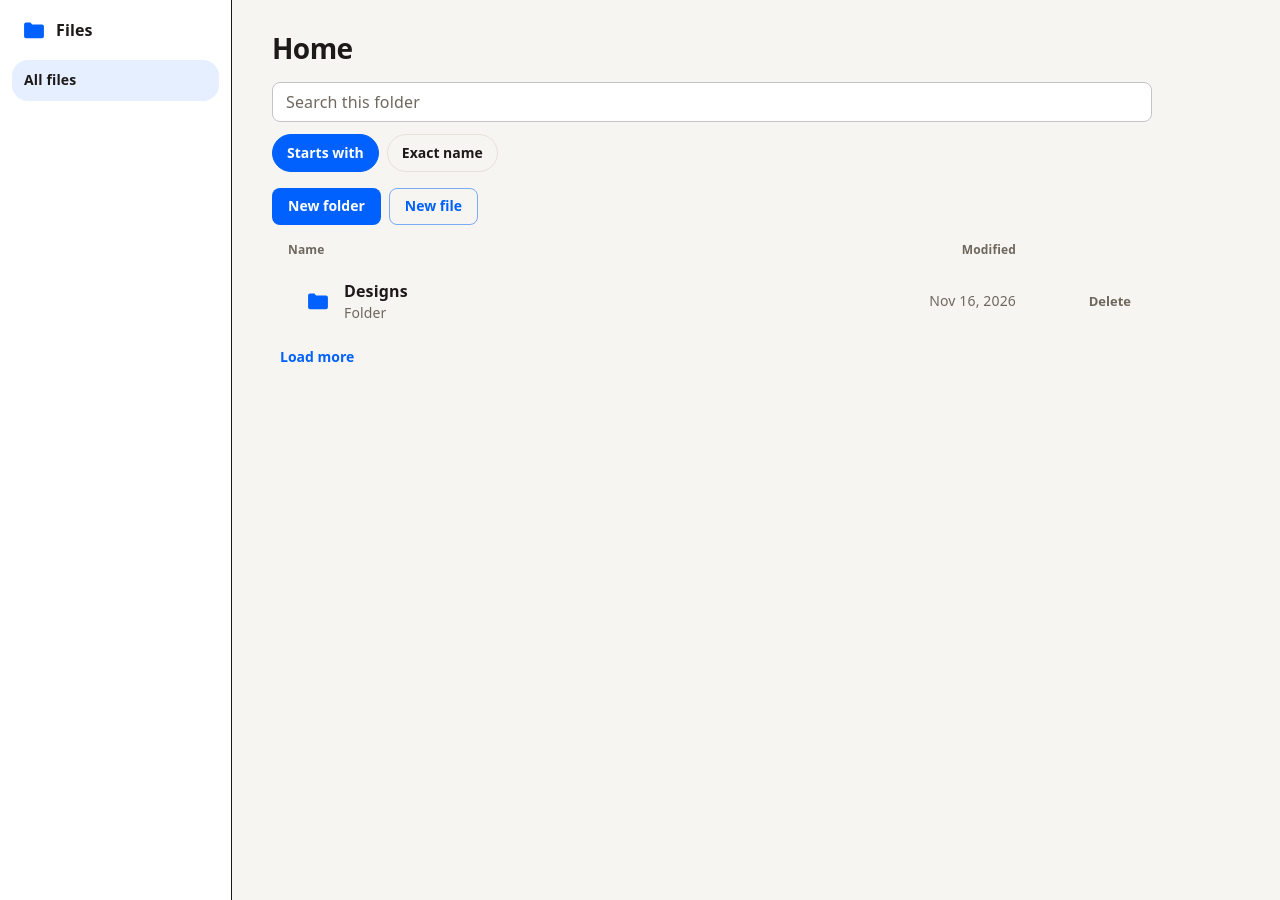
Scenario: browse folders › loads the next page with the cursor
Expected: the link "Designs Folder" is shown, x1=304 y1=280 x2=408 y2=322
Expected: the link "Photos" is not shown
Click the button "Load more" at (317, 357), box x1=272 y1=339 x2=362 y2=375
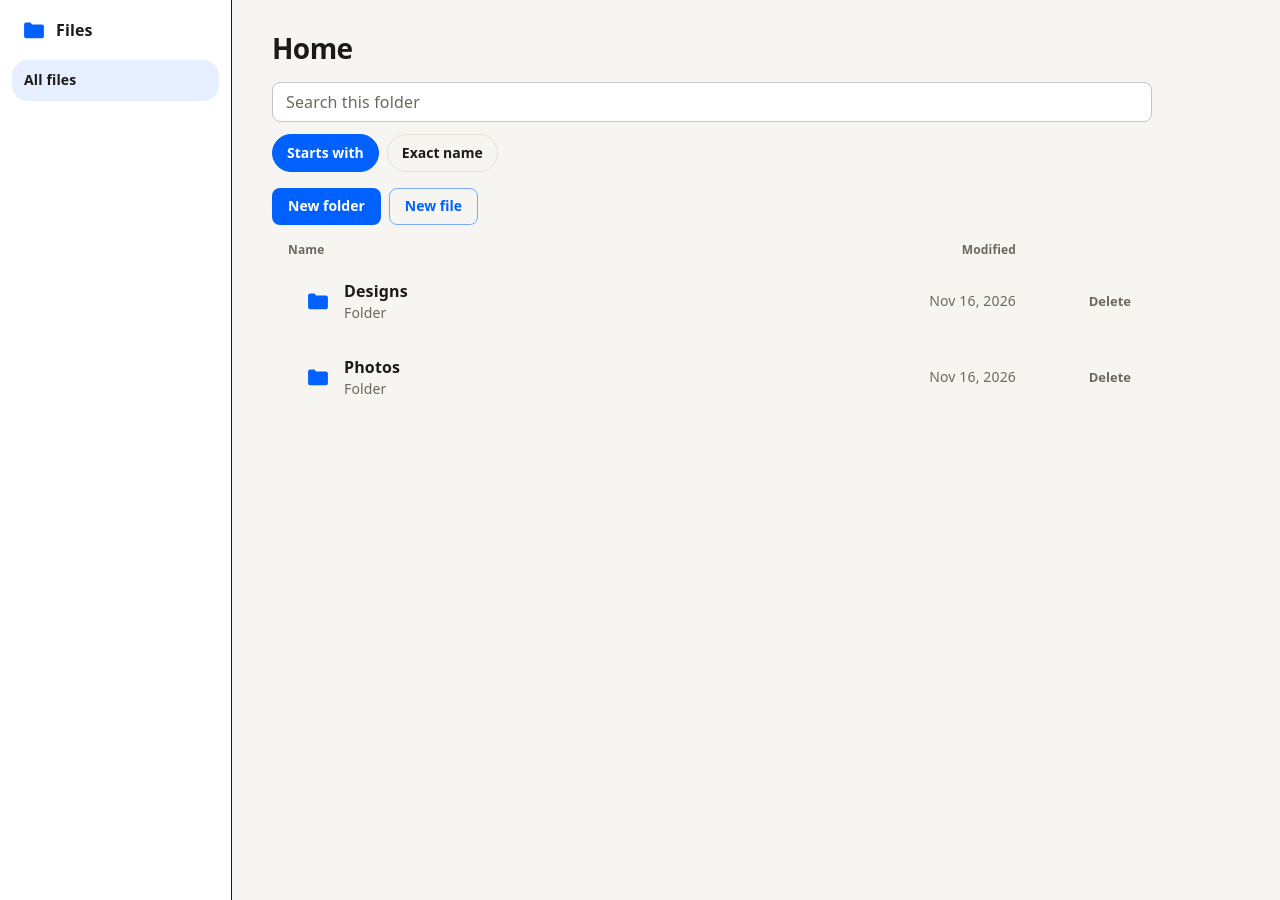
Expected: the link "Designs Folder" is shown, x1=304 y1=280 x2=408 y2=322
Expected: the link "Photos Folder" is shown, x1=304 y1=356 x2=400 y2=398
